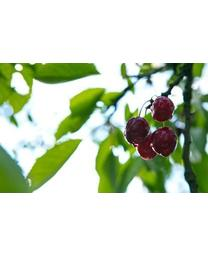cherry: (151, 127, 177, 158), (125, 116, 150, 145), (151, 97, 175, 122), (138, 135, 158, 160)
